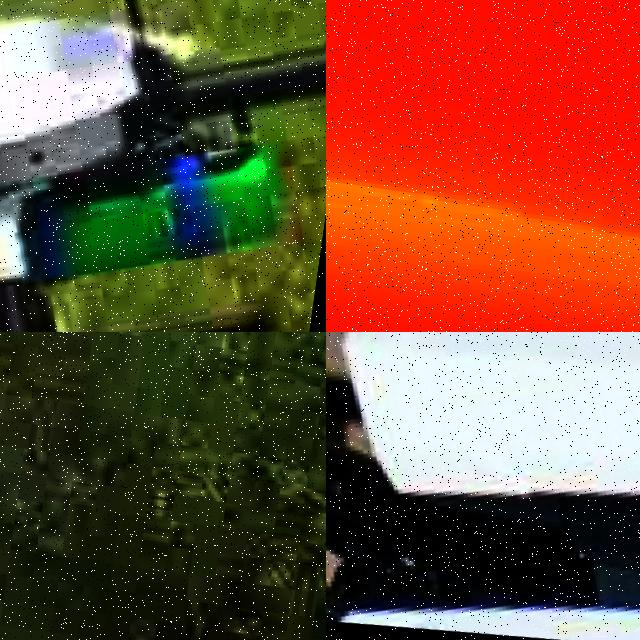0: (0, 0, 326, 332)
drone: (326, 332, 640, 640)
